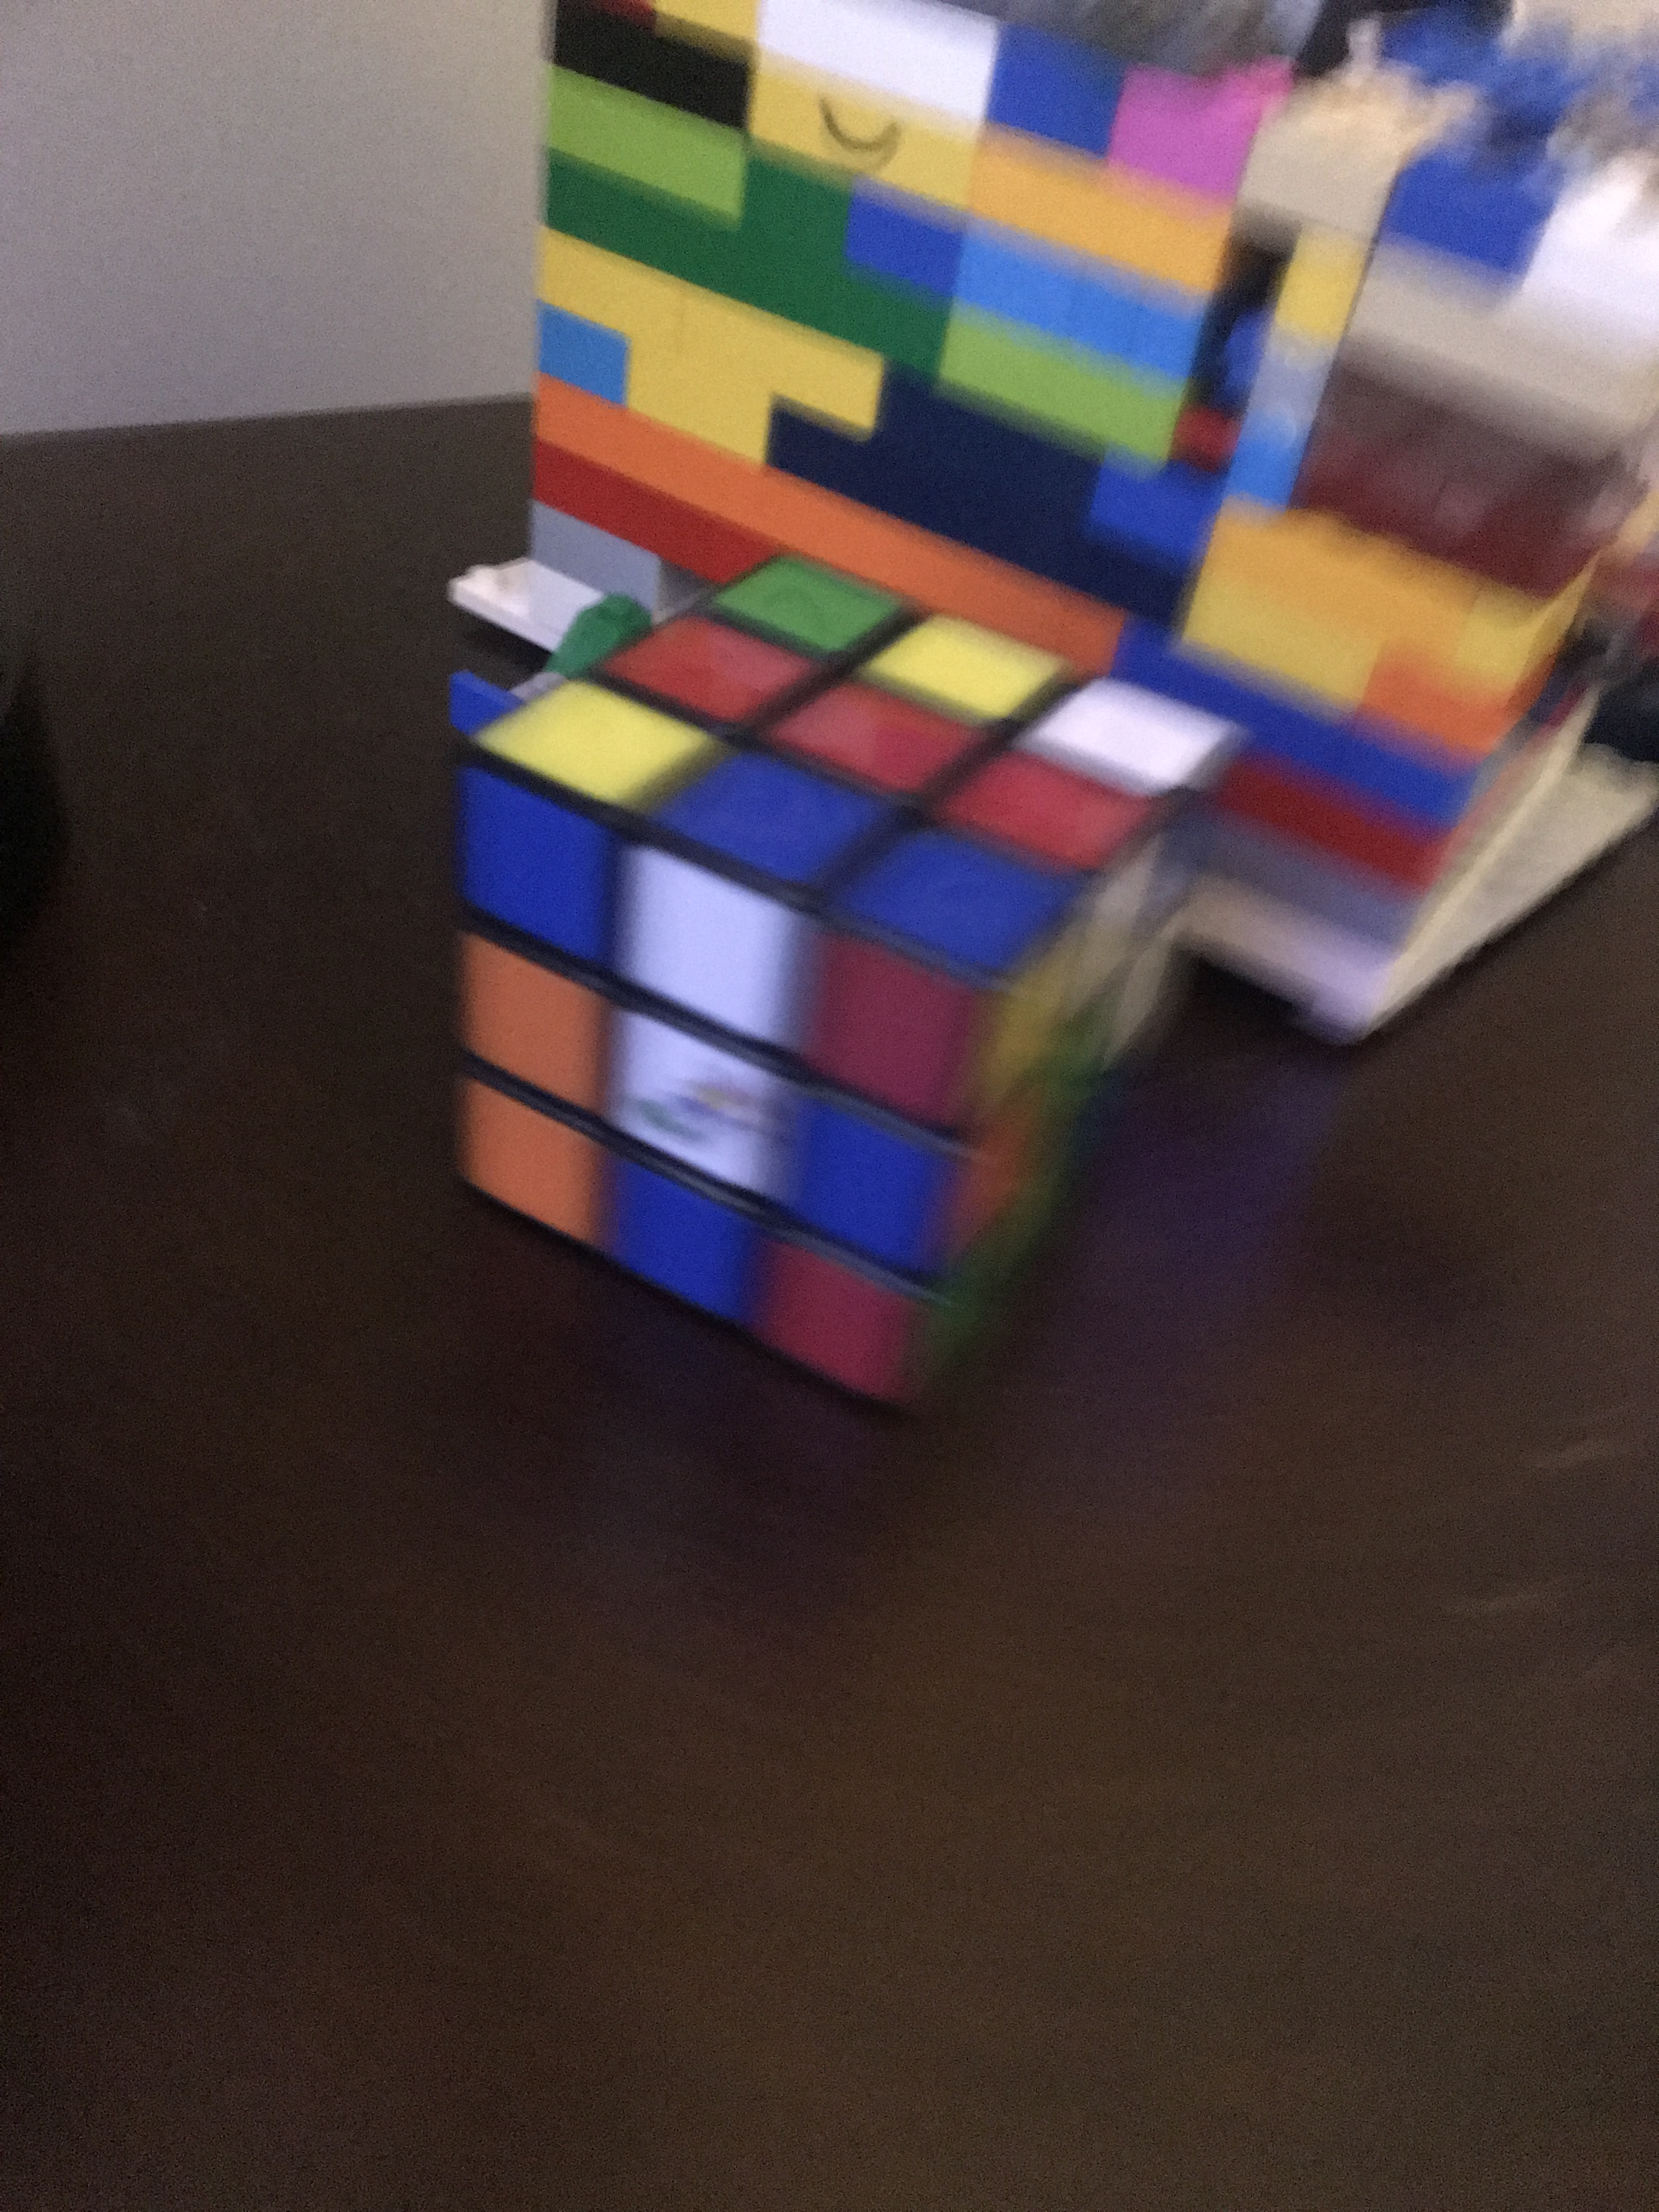rubiks: (436, 559, 1239, 1404)
